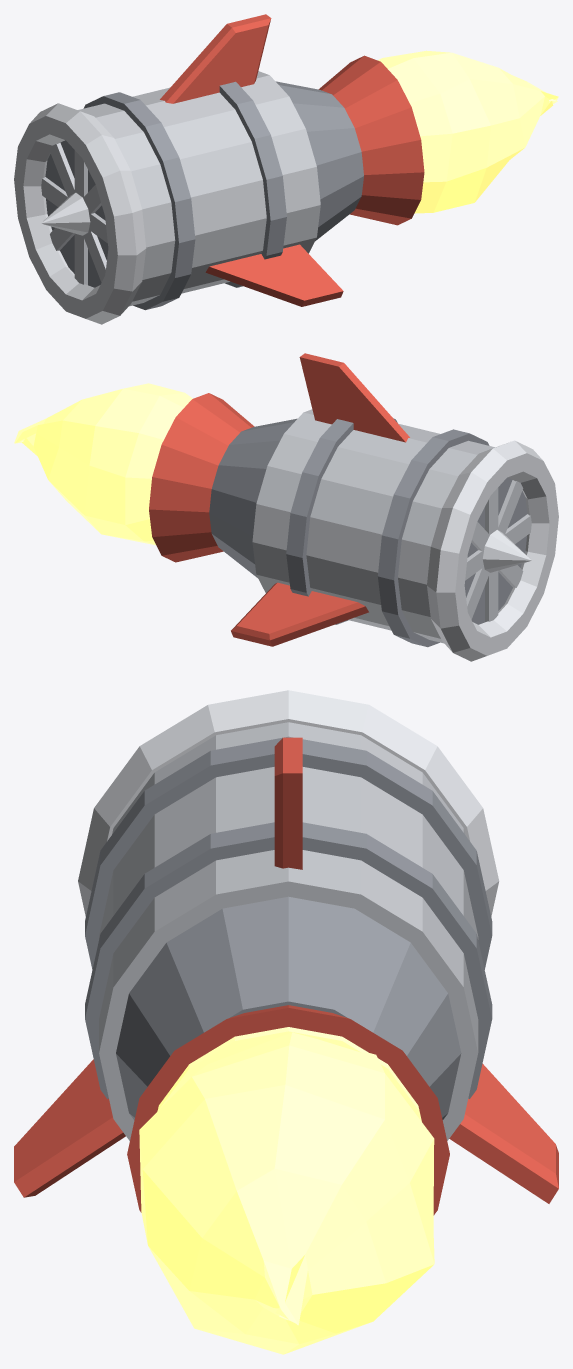
File: item_engine.glb
3 renders of one model, top to bottom at view 1: azimuth 30°, elevation 25°; view 2: azimuth 150°, elevation 25°; view 3: azimuth 270°, elevation 25°, orthographic. The views are drawn at different scales.
Parts seen in each view (by area): view 1: item_engine; view 2: item_engine; view 3: item_engine.
Boxes of the visible parts, x1=… form: item_engine: x1=14, y1=14, x2=558, y2=324; item_engine: x1=14, y1=353, x2=558, y2=661; item_engine: x1=14, y1=690, x2=558, y2=1354.
Size of the model in its own units: 1.58 by 0.74 by 0.7761.
